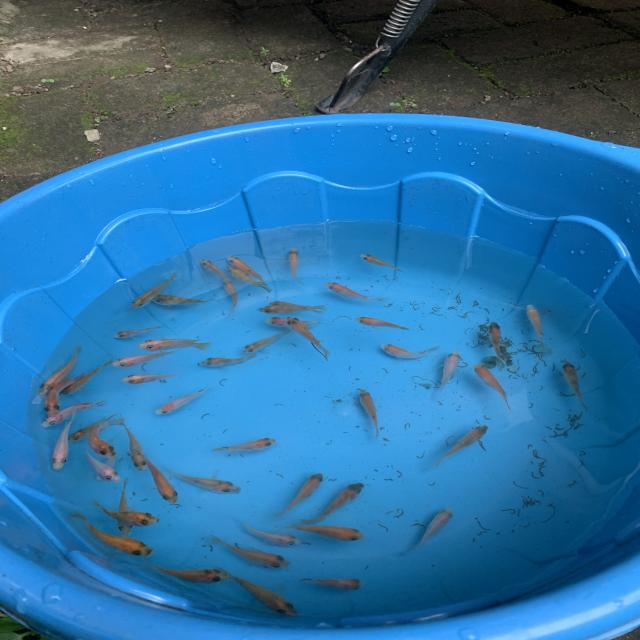nila: (215, 564, 307, 622), (303, 475, 372, 531), (72, 515, 166, 555), (262, 470, 332, 518), (206, 536, 296, 570), (33, 340, 87, 396), (159, 463, 246, 497), (135, 449, 183, 506), (88, 495, 168, 529), (56, 354, 119, 396), (138, 560, 241, 584), (150, 384, 220, 419), (201, 429, 279, 459), (413, 504, 461, 552), (440, 425, 492, 467), (41, 400, 112, 430), (286, 316, 336, 358), (127, 271, 180, 310), (44, 366, 85, 416), (472, 362, 514, 410), (224, 254, 276, 291), (557, 356, 589, 416), (282, 522, 369, 544), (62, 413, 121, 445), (238, 324, 299, 354), (50, 411, 78, 476), (234, 522, 305, 547), (377, 341, 446, 366), (326, 278, 390, 304), (111, 471, 135, 539), (124, 415, 152, 472), (226, 264, 276, 295), (294, 571, 371, 591), (522, 301, 551, 354), (84, 418, 118, 460), (135, 335, 217, 352), (431, 349, 464, 390), (357, 388, 384, 438), (84, 449, 126, 481), (111, 349, 181, 368), (355, 252, 408, 275), (120, 367, 184, 386), (352, 314, 413, 333), (114, 321, 170, 341), (487, 320, 509, 370), (198, 258, 240, 284), (266, 299, 330, 316), (149, 290, 217, 306), (199, 351, 259, 368), (93, 444, 117, 486), (255, 304, 330, 317), (264, 317, 336, 330), (224, 276, 245, 318), (287, 246, 309, 286)
